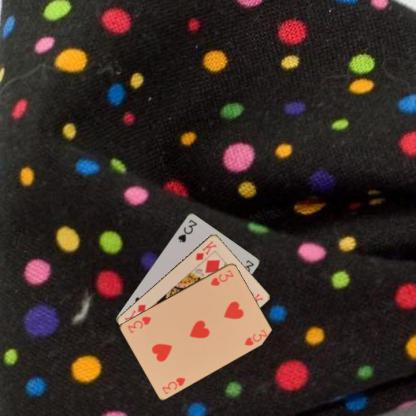3h: (160, 375, 186, 396), (208, 267, 235, 287)
3s: (175, 216, 198, 244)
Kd: (193, 238, 218, 262)
